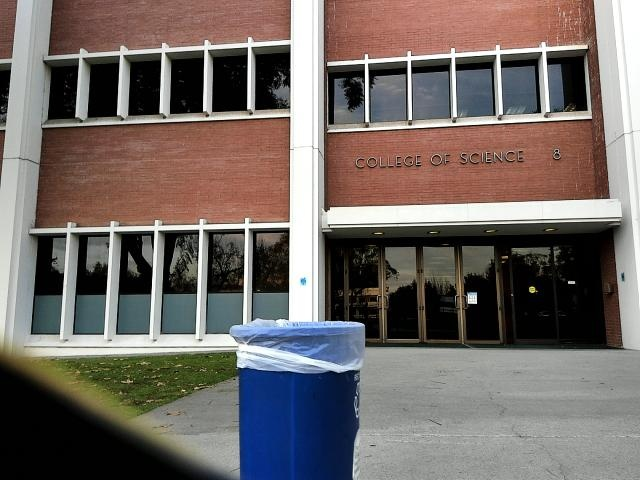trashcan_open: (226, 311, 371, 480)
